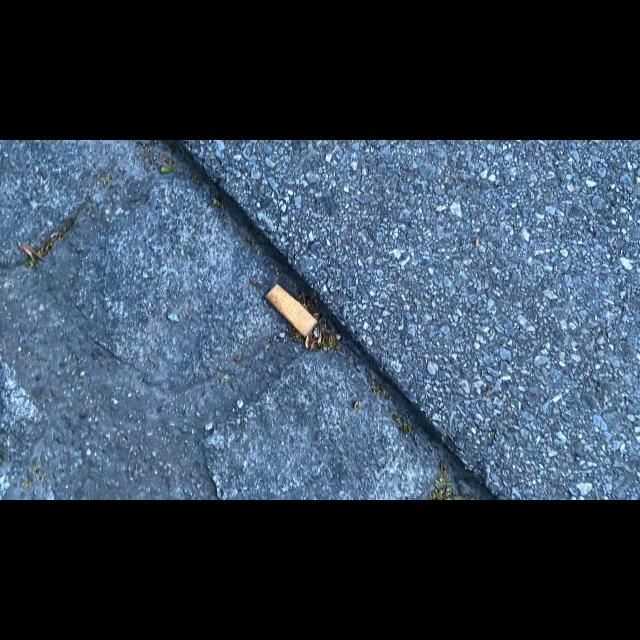cigarette: (264, 283, 318, 338)
